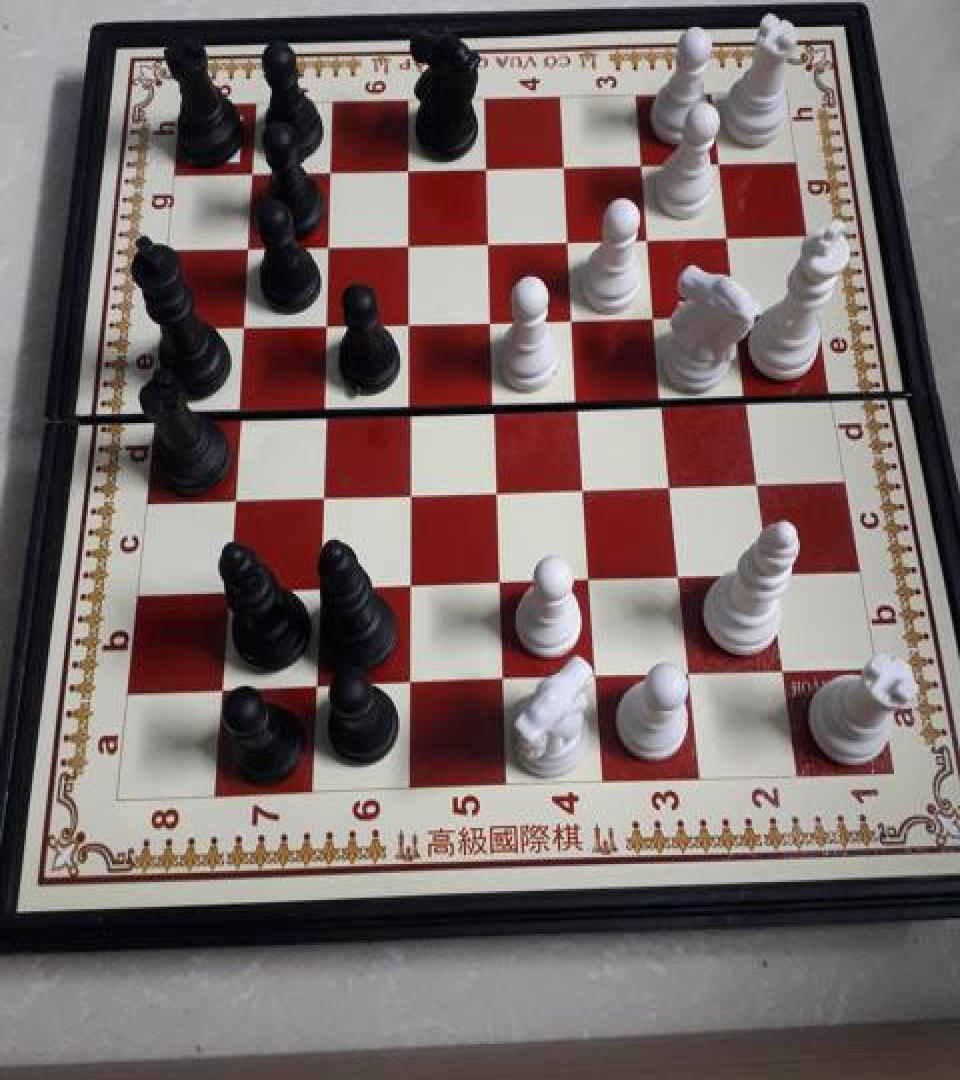xcorner: (766, 653, 798, 690), (211, 571, 243, 608), (205, 670, 237, 706), (299, 667, 331, 703), (393, 665, 425, 701), (486, 662, 518, 698), (580, 659, 612, 695), (673, 657, 705, 693), (302, 568, 334, 604), (393, 566, 425, 602), (483, 564, 515, 600), (573, 560, 605, 596), (664, 558, 696, 594), (754, 556, 786, 592), (217, 478, 249, 514), (305, 475, 337, 511), (392, 472, 424, 508), (480, 470, 512, 506), (568, 468, 600, 504), (655, 466, 687, 502), (743, 462, 775, 498), (307, 388, 339, 424), (392, 386, 424, 422), (562, 380, 594, 416), (647, 378, 679, 414), (732, 376, 764, 412), (227, 308, 259, 344), (310, 306, 342, 342), (392, 304, 424, 340), (475, 302, 507, 338), (557, 299, 589, 335), (640, 296, 672, 332), (722, 294, 754, 330), (232, 230, 264, 266), (312, 228, 344, 264), (392, 226, 424, 262), (472, 224, 504, 260), (552, 222, 584, 258), (632, 220, 664, 256), (712, 217, 744, 253), (237, 158, 269, 194), (314, 155, 346, 191), (392, 153, 424, 189), (470, 151, 502, 187), (548, 148, 580, 184), (626, 146, 658, 182), (703, 144, 735, 180), (222, 391, 254, 426), (477, 384, 509, 419)
